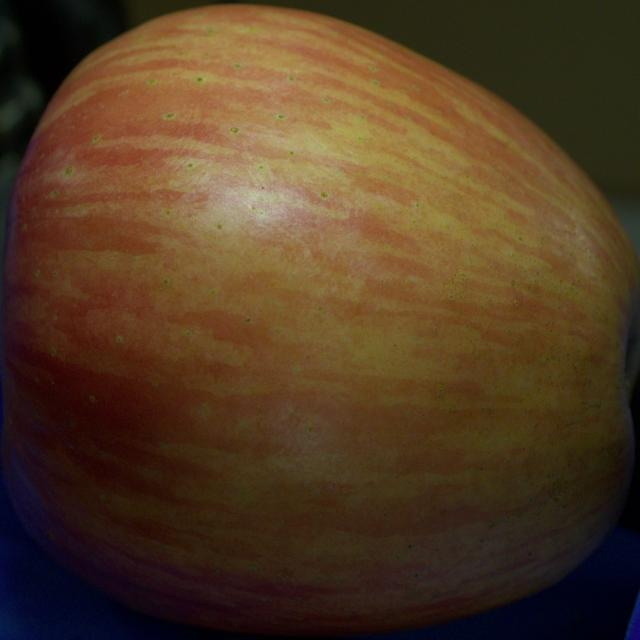apple: (0, 5, 639, 638)
